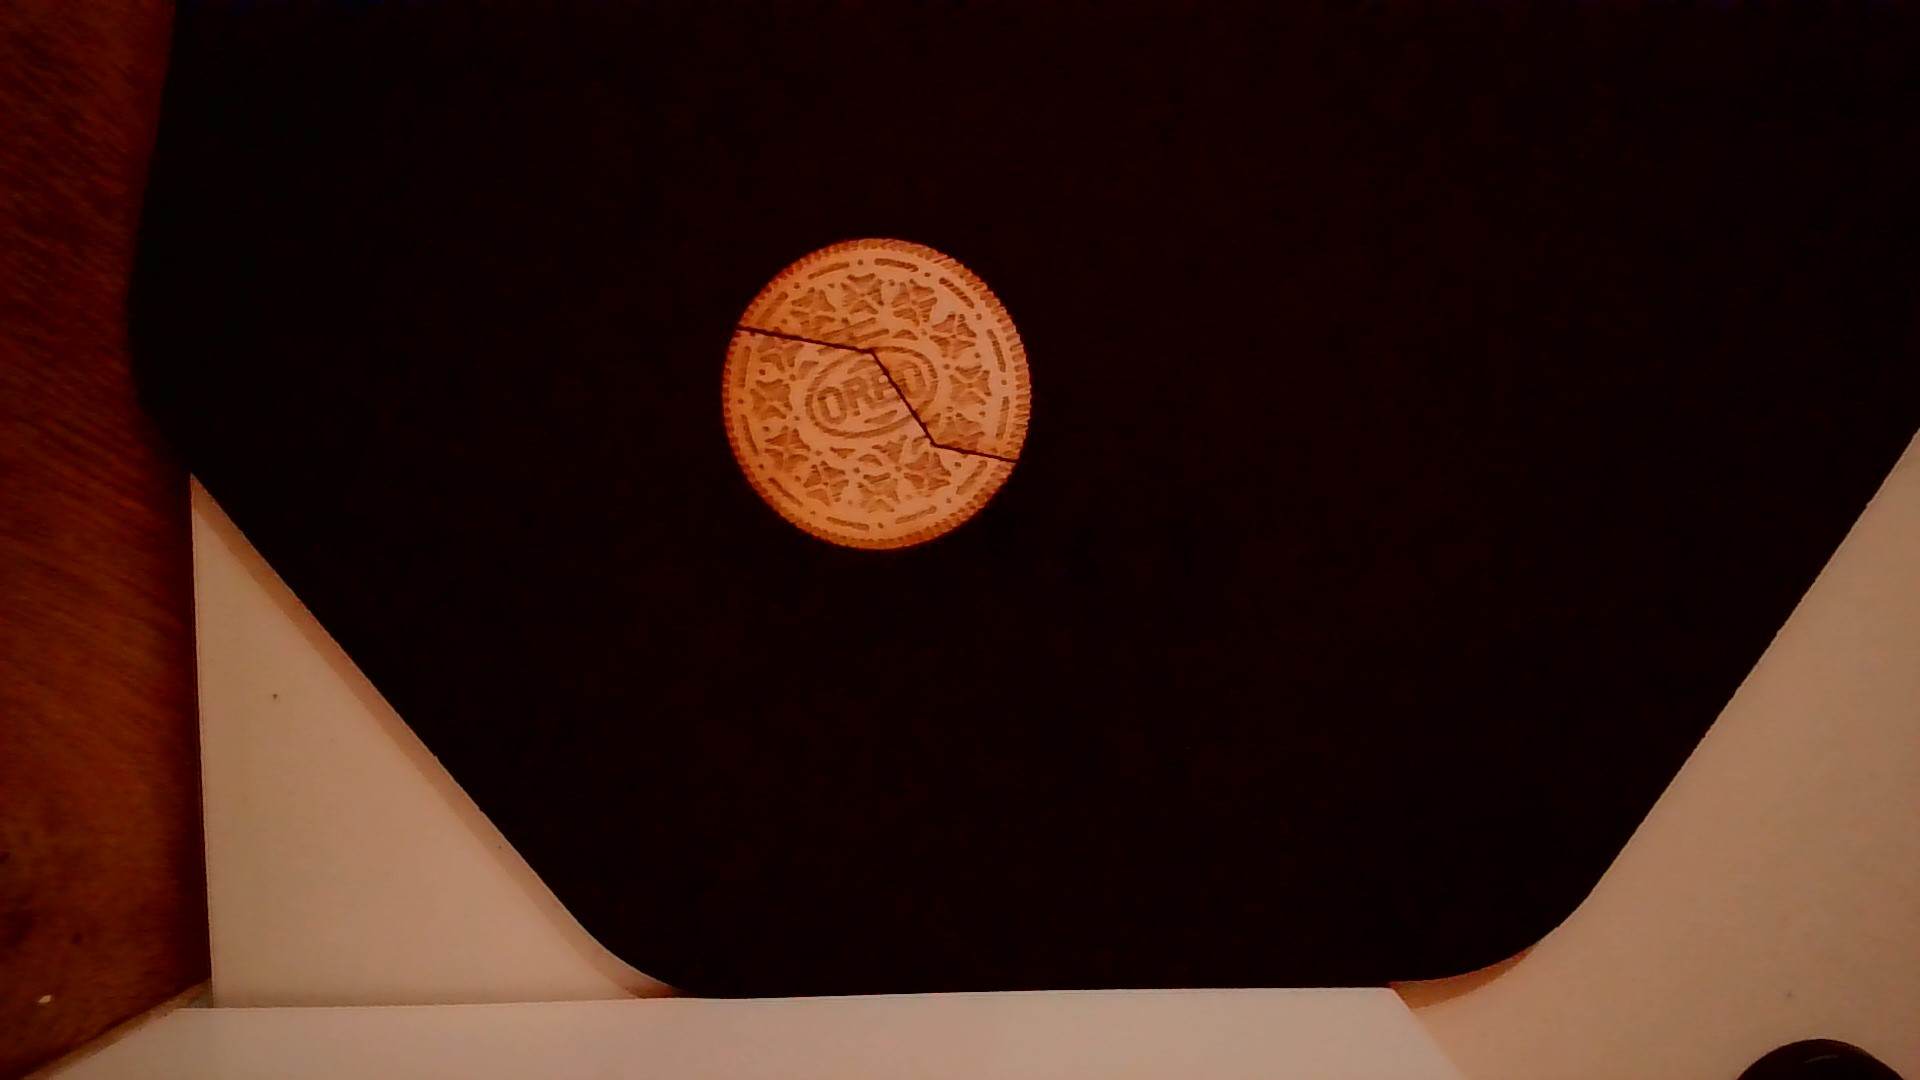Fissure: (729, 315, 1021, 468)
Oréo: (712, 229, 1040, 558)
